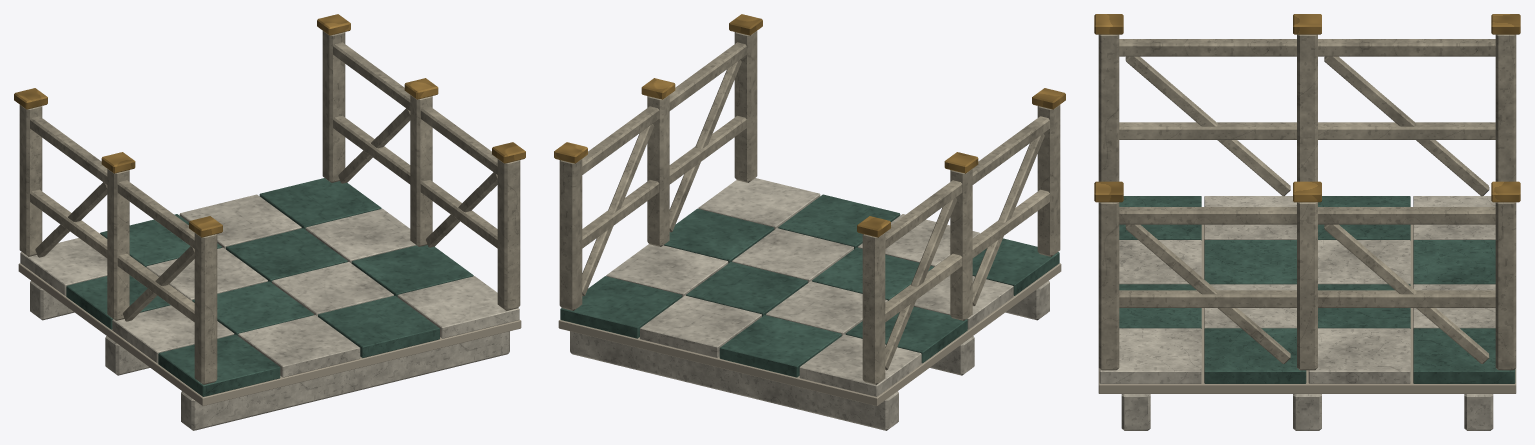
The picture shows the model from 3 angles, left to right: view 1: azimuth 30°, elevation 25°; view 2: azimuth 150°, elevation 25°; view 3: azimuth 270°, elevation 25°; orthographic projection. The views are drawn at different scales.
Visible parts, largest first — view 1: carved-limestone-mouldings, honed-limestone, green-serpentine-marble-stone, mortar-joint-recess, aged-bronze; view 2: honed-limestone, carved-limestone-mouldings, green-serpentine-marble-stone, mortar-joint-recess, aged-bronze; view 3: honed-limestone, carved-limestone-mouldings, green-serpentine-marble-stone, mortar-joint-recess, aged-bronze.
Part boxes in pixels (x1=…): carved-limestone-mouldings: x1=20, y1=194, x2=519, y2=430; honed-limestone: x1=19, y1=31, x2=520, y2=384; green-serpentine-marble-stone: x1=66, y1=178, x2=473, y2=396; mortar-joint-recess: x1=18, y1=263, x2=521, y2=405; aged-bronze: x1=14, y1=14, x2=525, y2=237; honed-limestone: x1=559, y1=31, x2=1060, y2=384; carved-limestone-mouldings: x1=570, y1=178, x2=1049, y2=430; green-serpentine-marble-stone: x1=560, y1=194, x2=1059, y2=377; mortar-joint-recess: x1=558, y1=263, x2=1061, y2=405; aged-bronze: x1=554, y1=14, x2=1065, y2=237; honed-limestone: x1=1098, y1=34, x2=1516, y2=370; carved-limestone-mouldings: x1=1099, y1=196, x2=1495, y2=430; green-serpentine-marble-stone: x1=1119, y1=196, x2=1515, y2=383; mortar-joint-recess: x1=1098, y1=224, x2=1516, y2=393; aged-bronze: x1=1094, y1=14, x2=1520, y2=202.
Bounding box in the file's own units: 2.04 × 1.27 × 2.04.
5 materials, 4 textured.
